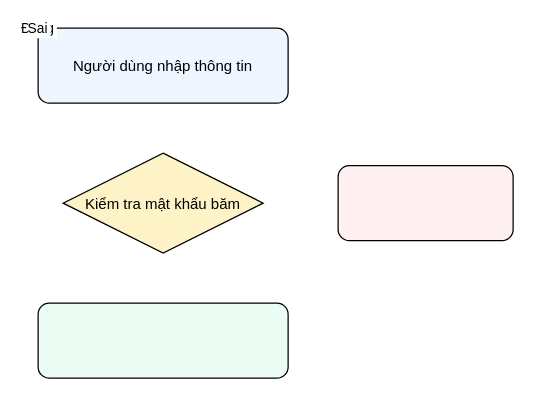
Image size: 534x399. Some labels were removed from this diagram. The centre of each missing label's shape, as x and y in pixels:
"Báo lỗi 401" belongs at [425,202].
"Cấp JWT Bearer Token" belongs at [162,340].
